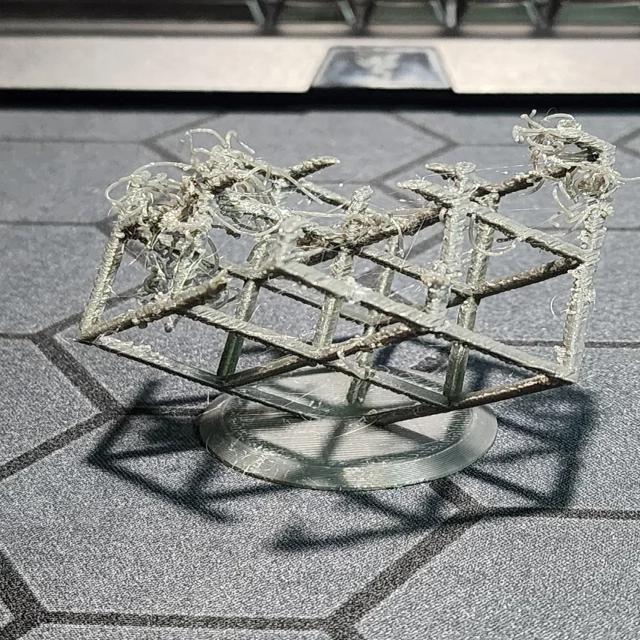Stringing: (104, 107, 620, 300)
